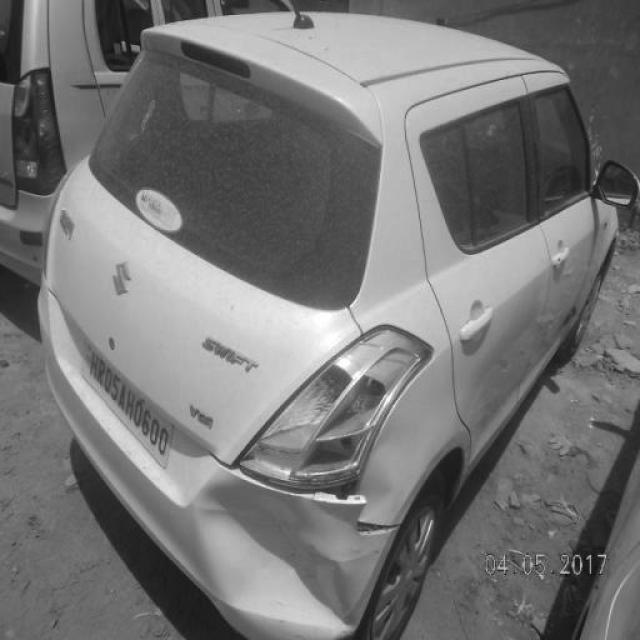car damage: (204, 460, 397, 633)
